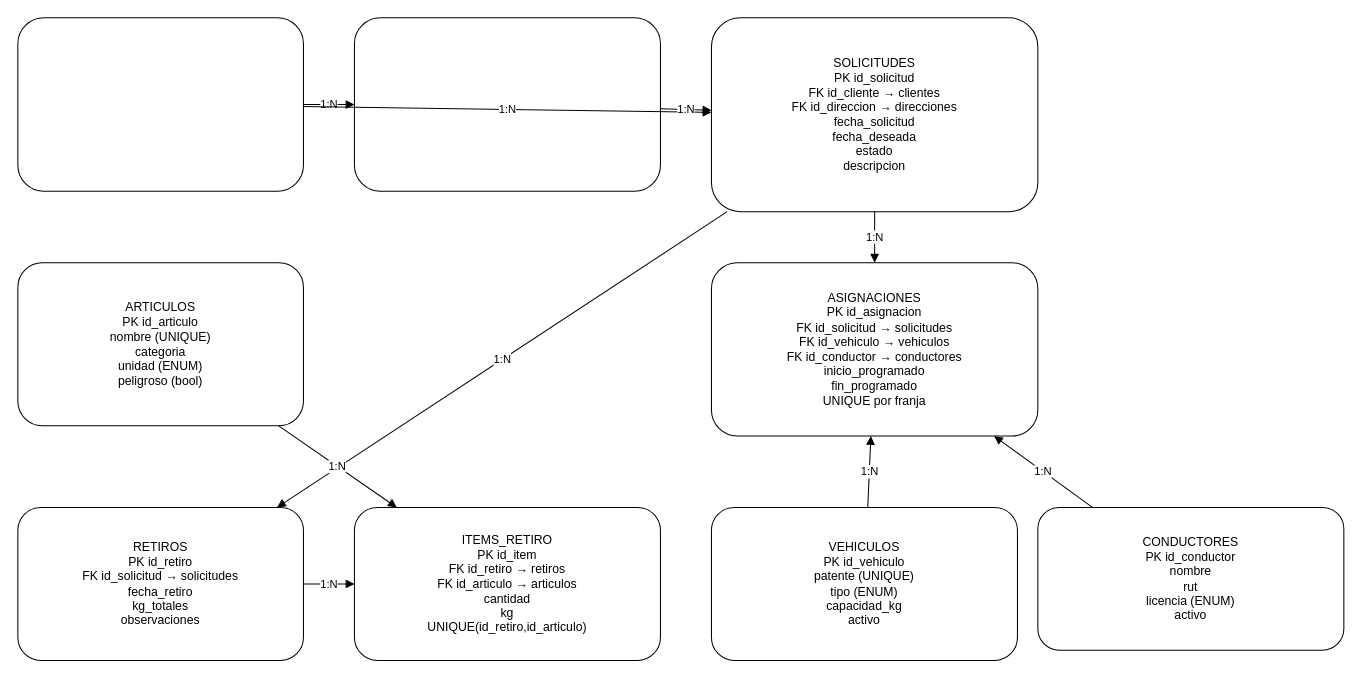
The diagram is 1362 pixels wide and 678 high, and some of its shapes have lost their labels. Here are the shapes that lost their labels. From the top down, the centre of each, then its label:
At pixel 160 104: "CLIENTES PK id_cliente rut nombre correo (UNIQUE) telefono fecha_alta".
At pixel 506 104: "DIRECCIONES PK id_direccion FK id_cliente → clientes calle comuna ciudad notas".
